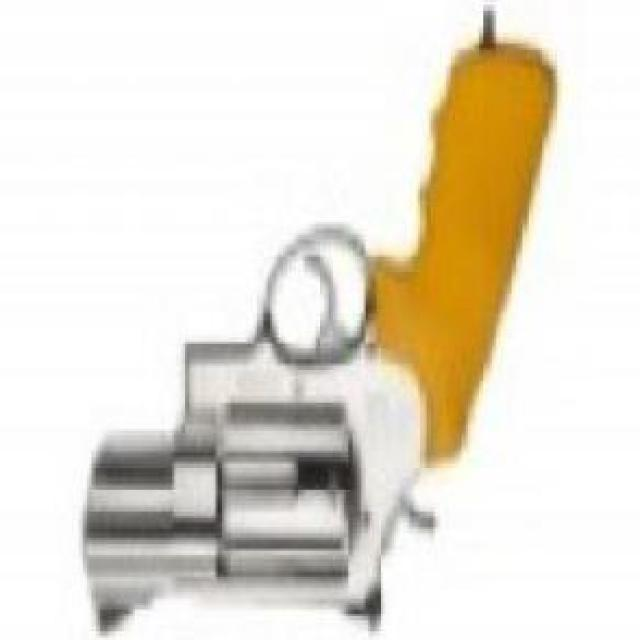pistol: (79, 53, 562, 625)
